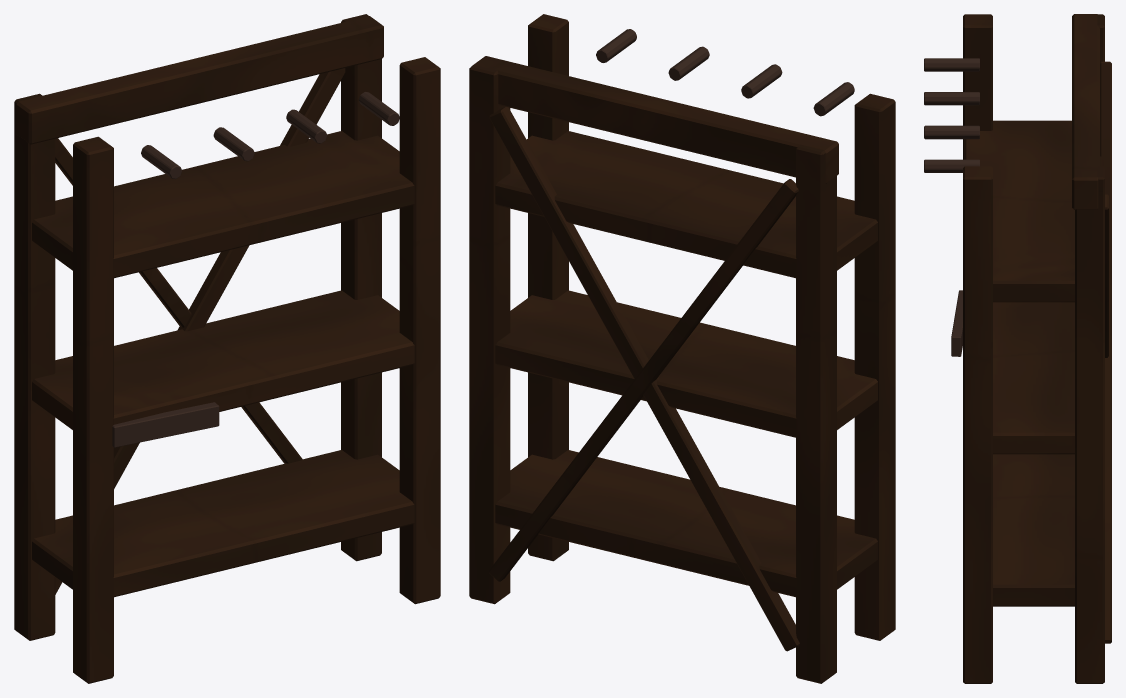
File: common_open_rack.glb
The picture shows the model from 3 angles, left to right: view 1: azimuth 30°, elevation 25°; view 2: azimuth 150°, elevation 25°; view 3: azimuth 270°, elevation 25°; orthographic projection. The views are drawn at different scales.
Visible parts, largest first — view 1: CommonOpenRackMesh; view 2: CommonOpenRackMesh; view 3: CommonOpenRackMesh.
Part boxes in pixels (x1=…): CommonOpenRackMesh: x1=14, y1=14, x2=440, y2=683; CommonOpenRackMesh: x1=469, y1=14, x2=895, y2=683; CommonOpenRackMesh: x1=924, y1=14, x2=1111, y2=683.
Bounding box in the file's own units: 0.98 × 1.4 × 0.47.
2 materials, 1 textured.
